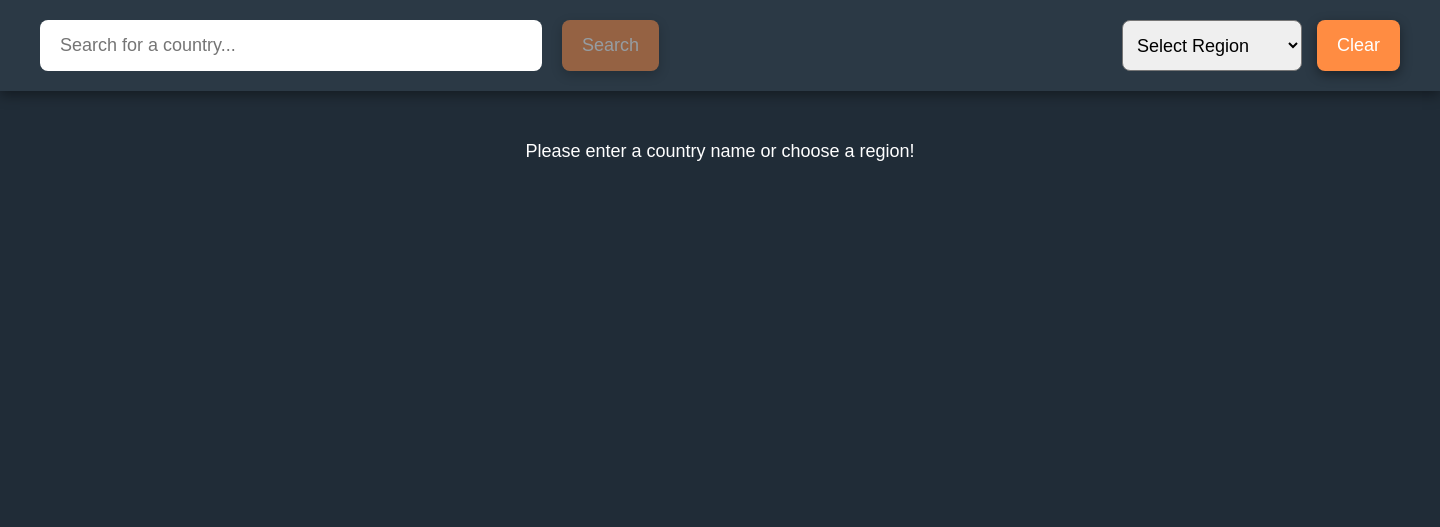
Test: App Component › displays loading state when fetching countries
# Input search term and trigger search
In the field with test id "search-input": (291, 46) [40, 20, 542, 71], type "Canada"
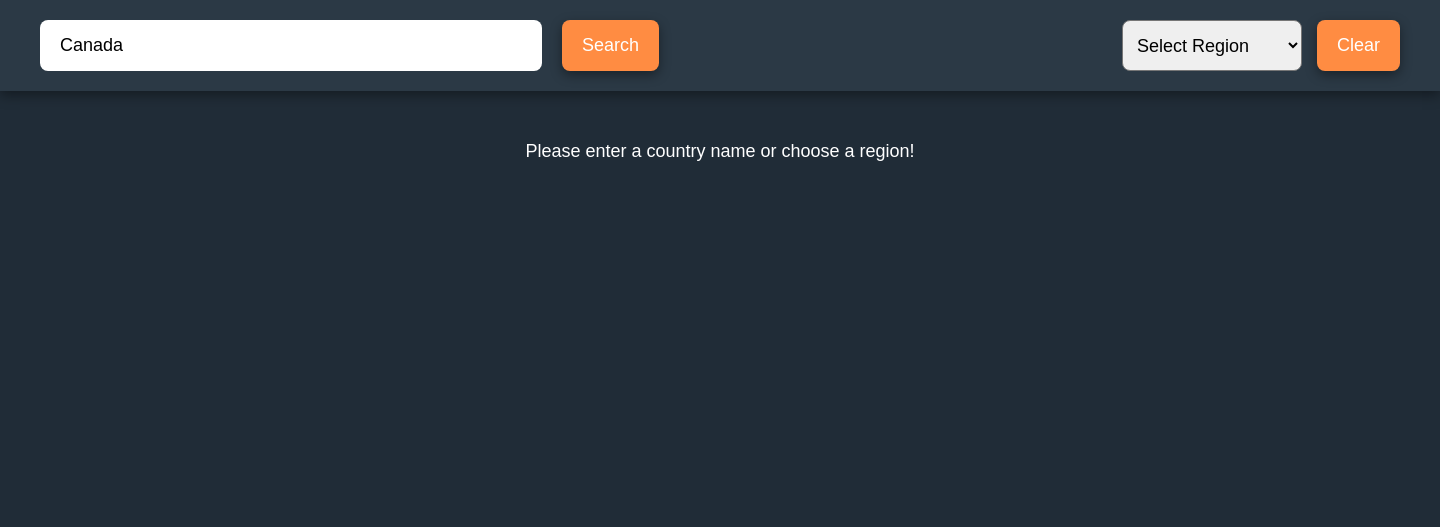
Click the button with test id "search-button": (610, 46) [562, 20, 659, 71]
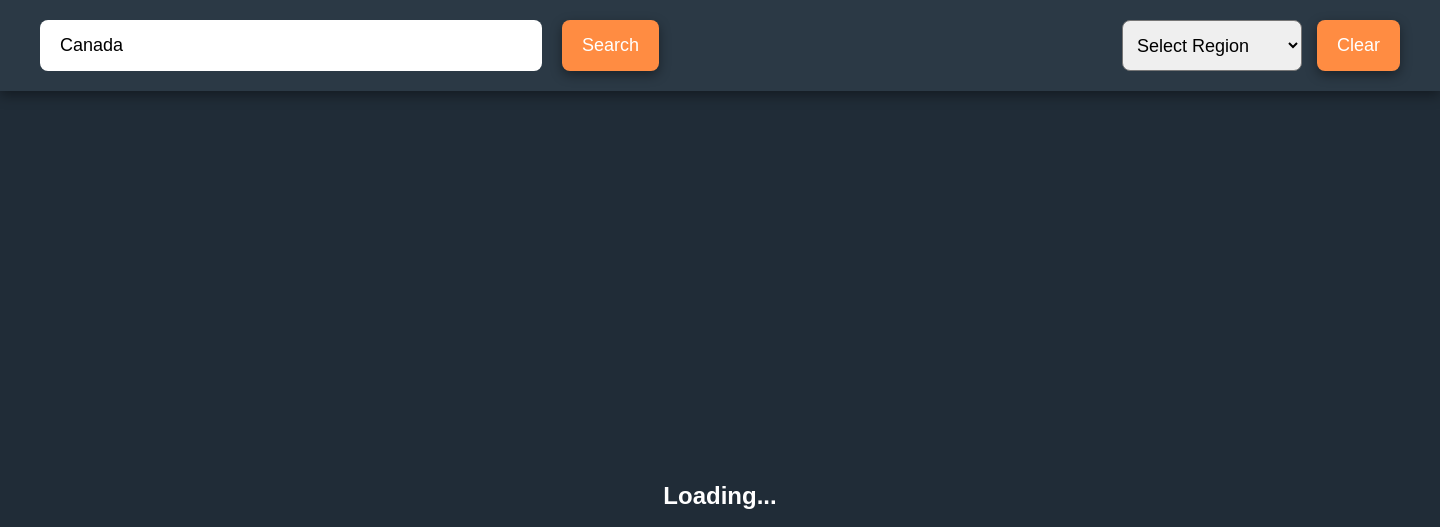
Now the text "Loading..." is shown, box [663, 482, 777, 510]
